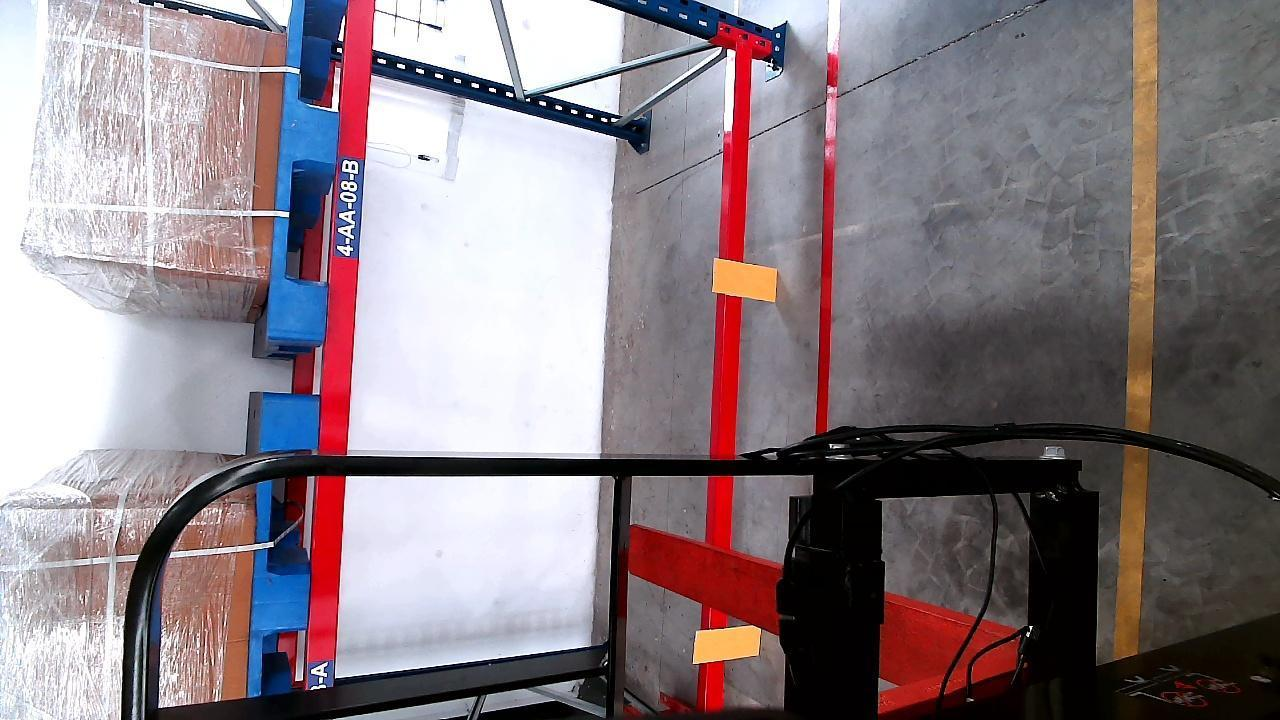h_rack: (311, 0, 372, 687), (700, 33, 755, 713)
orange_strip: (692, 623, 766, 663), (714, 260, 777, 299)
red_line: (814, 7, 841, 444)
small_pallet: (266, 0, 346, 345), (250, 405, 319, 690)
yellow_line: (1121, 0, 1159, 653)
